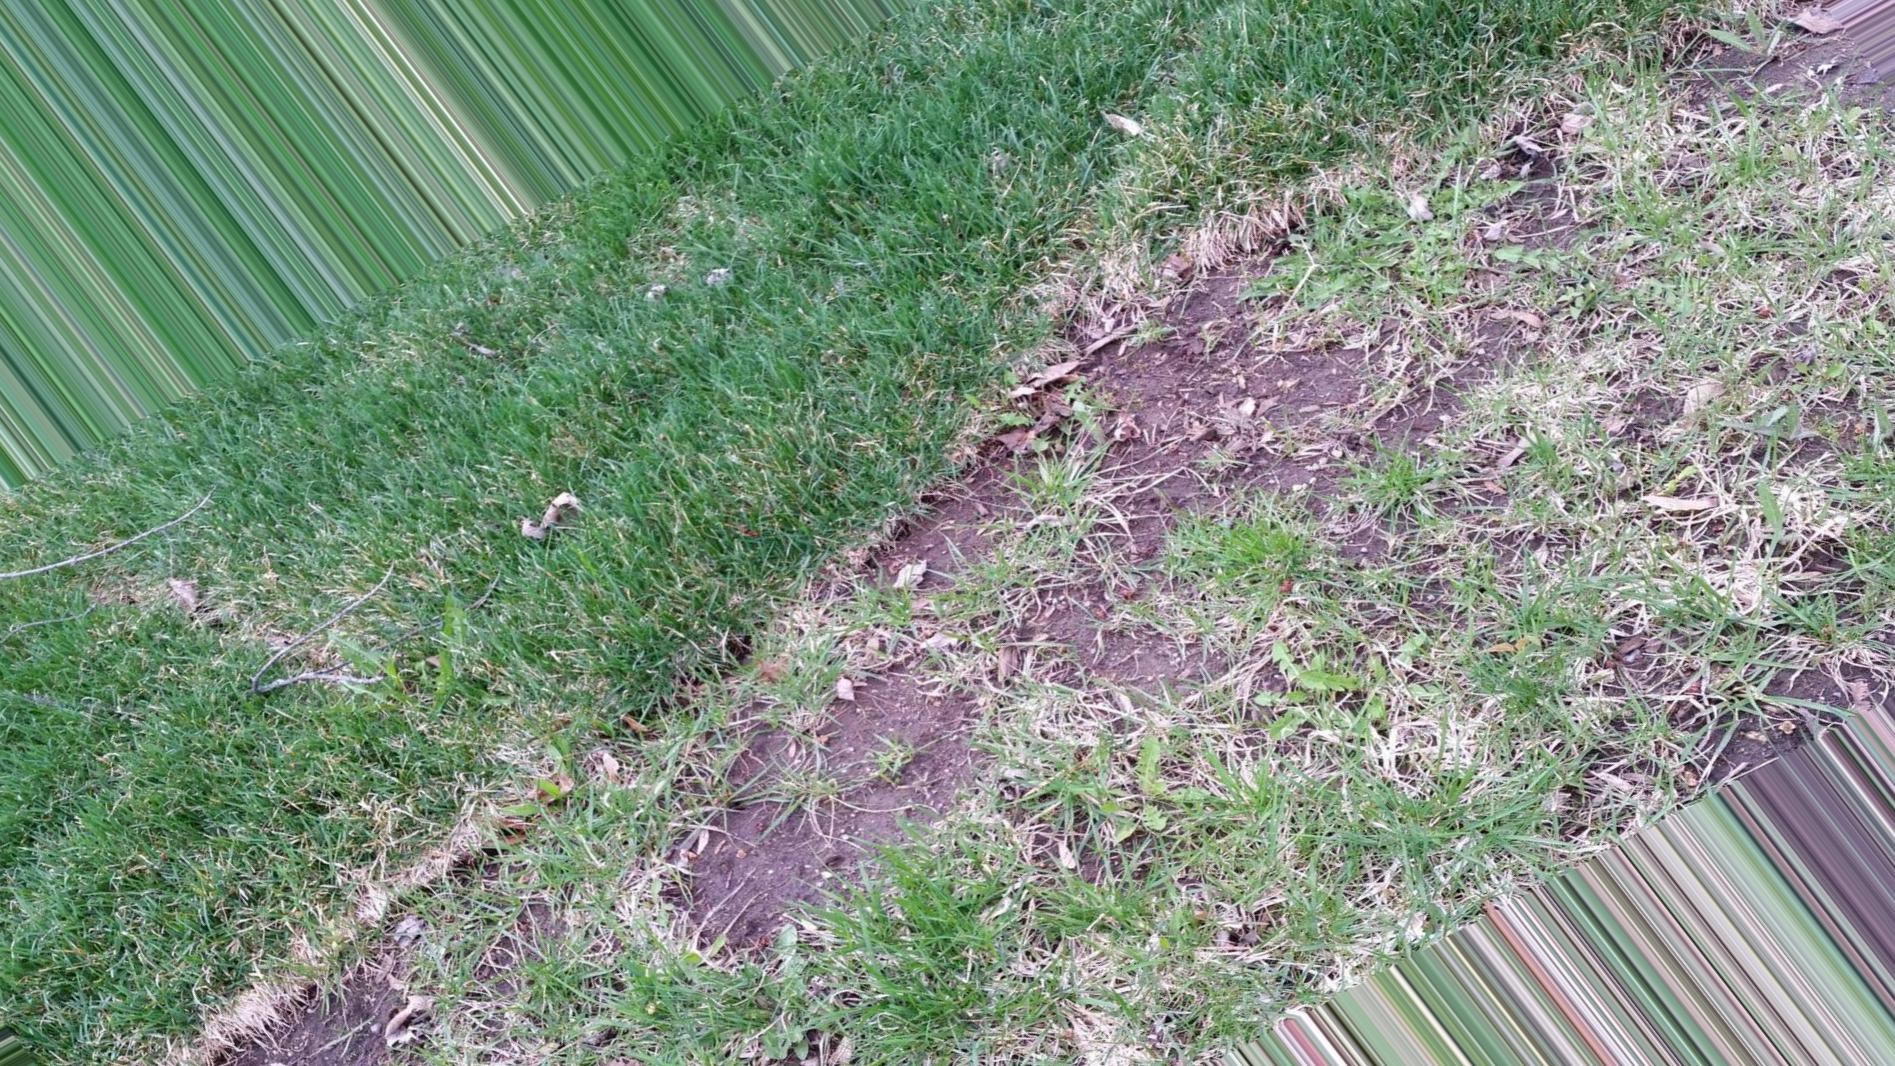patch: (934, 521, 1229, 694), (1160, 319, 1419, 512), (774, 705, 1022, 899)
